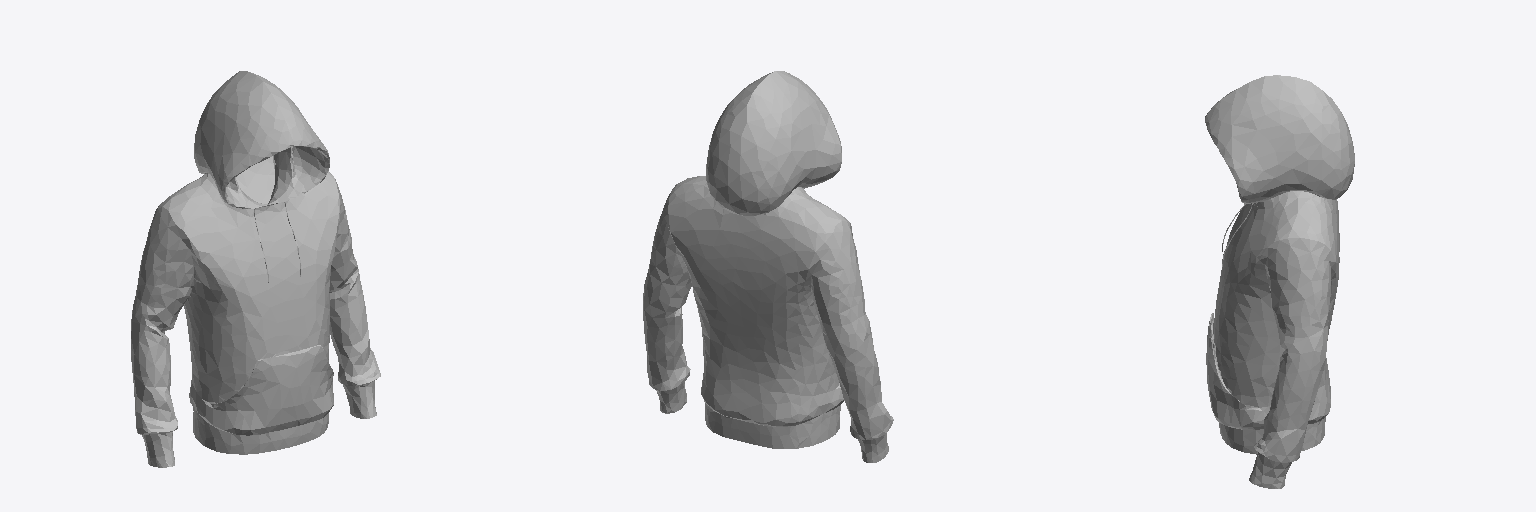
File: downsampled_plain.obj
The picture shows the model from 3 angles: view 1: azimuth 30°, elevation 25°; view 2: azimuth 150°, elevation 25°; view 3: azimuth 270°, elevation 25°; orthographic projection.
Size of the model in its own units: 1.3 by 1.9 by 0.7183.